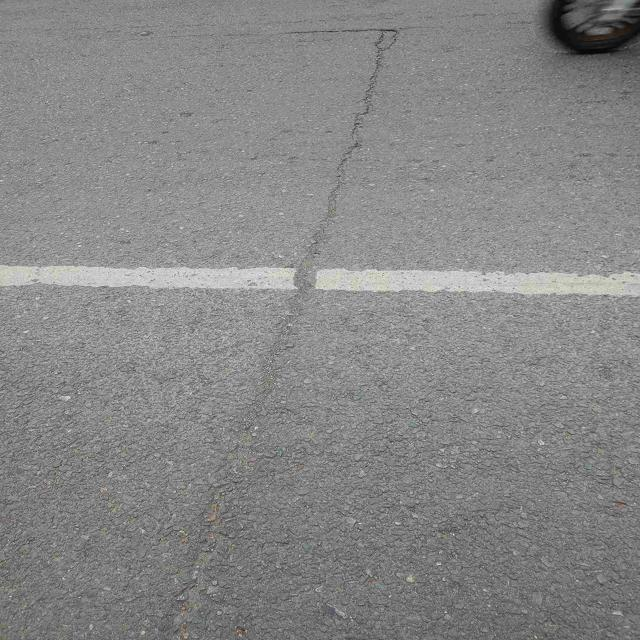Memanjang: (124, 21, 409, 640)
